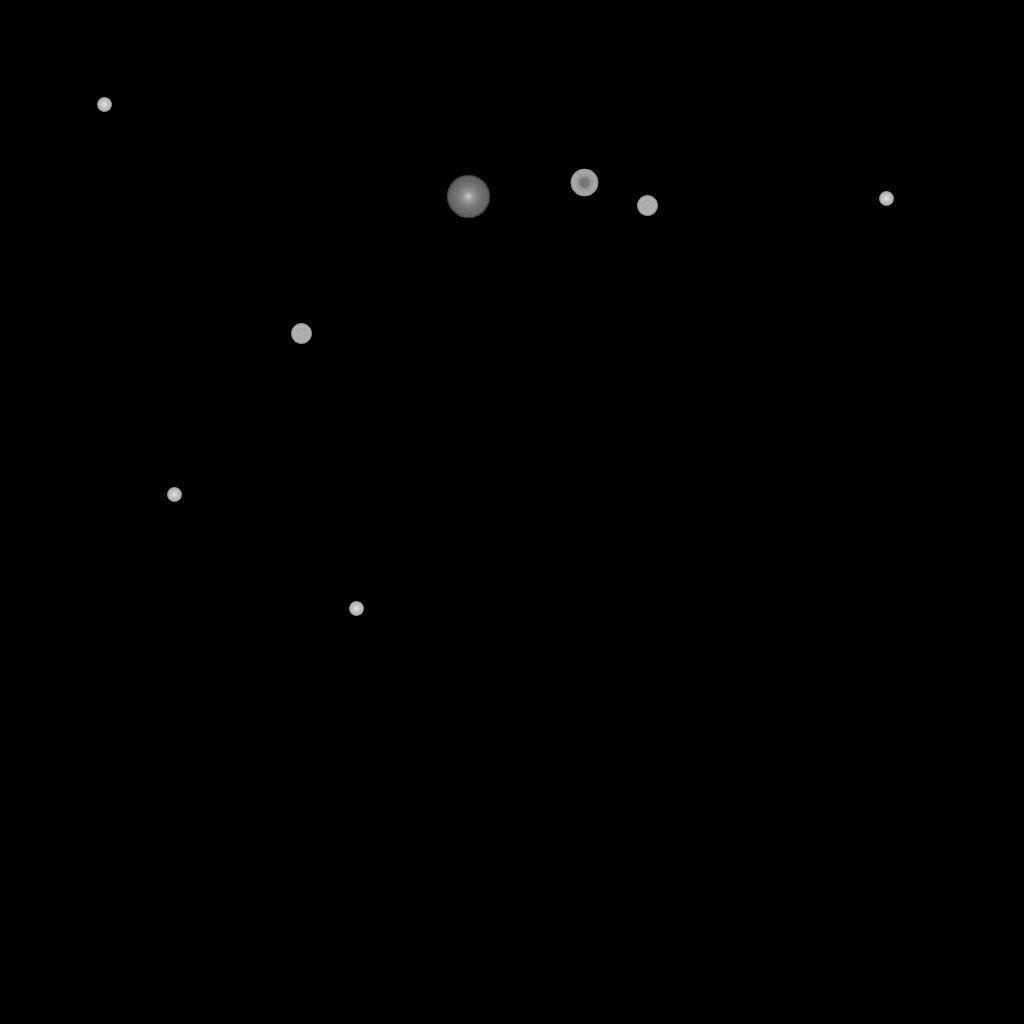depth:-30: (97, 98, 111, 112), (879, 192, 893, 206), (349, 602, 363, 616), (167, 488, 181, 502)
depth:-40: (637, 196, 657, 216), (291, 324, 311, 344)
depth:-50: (570, 169, 598, 197)
depth:10: (446, 175, 490, 219)
